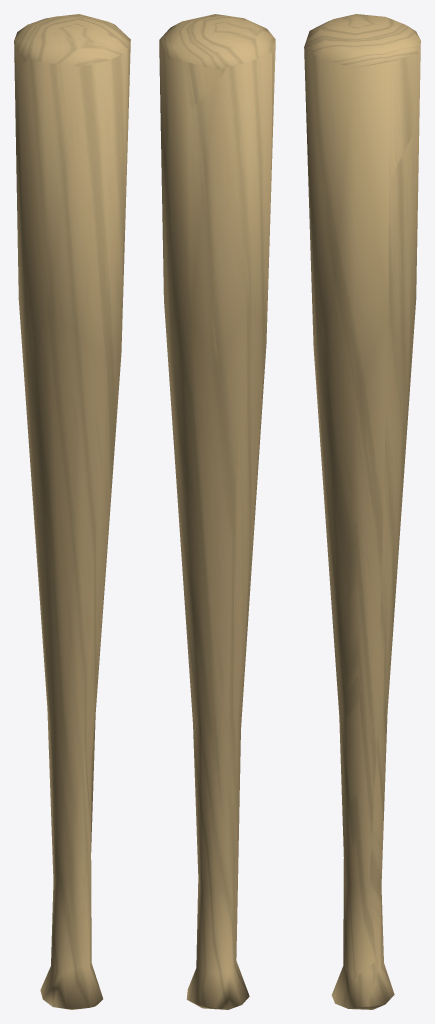
The model's file is baseball_bat.fbx.
The picture shows the model from 3 angles, left to right: view 1: azimuth 90°, elevation 25°; view 2: azimuth 150°, elevation 25°; view 3: azimuth 270°, elevation 25°; orthographic projection.
Visible parts, largest first — view 1: bat; view 2: bat; view 3: bat.
Part boxes in pixels (left/top/right/bottom): bat: left=14, top=14, right=130, bottom=1009; bat: left=159, top=14, right=275, bottom=1009; bat: left=304, top=14, right=420, bottom=1009.
Bounding box in the file's own units: 0.1039 × 0.9434 × 0.1022.
Materials: 1 (1 with a texture image).
